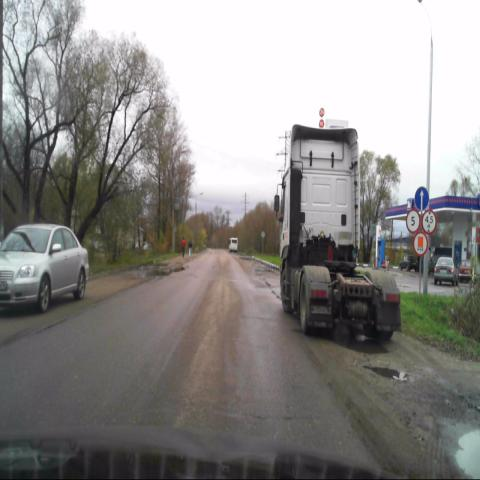3_32: (412, 230, 429, 256)
